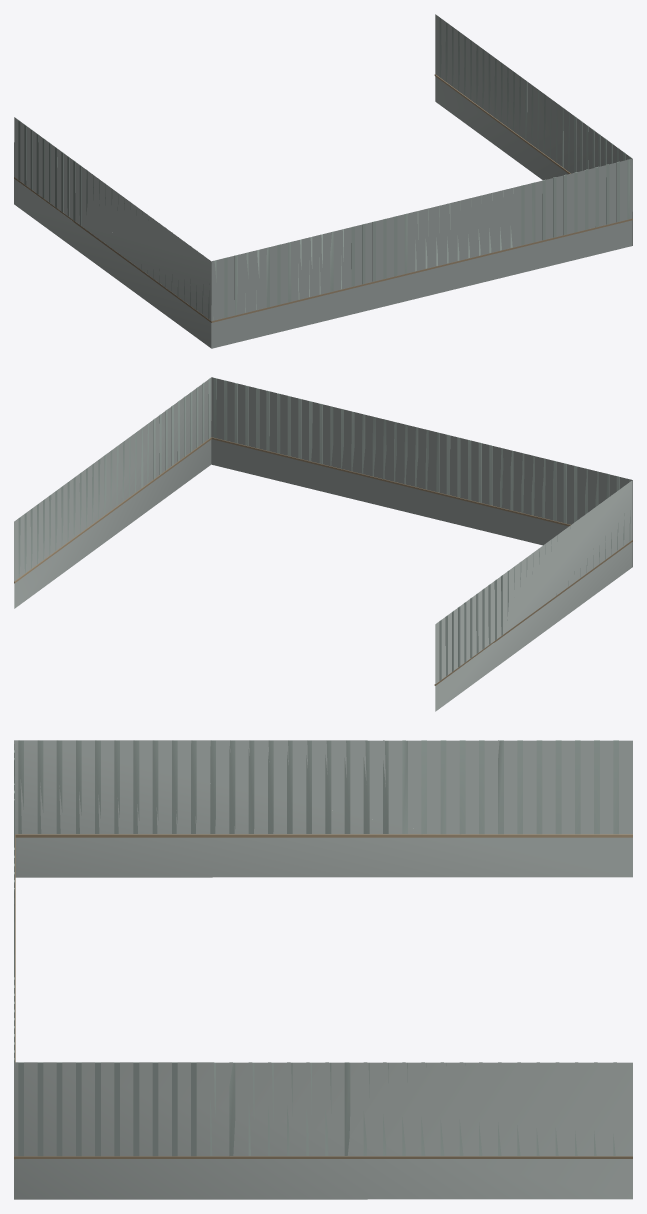
Rendered from home_wallpaper_s3__mint_low.glb.
3 views of the same model, one above another, from view 1: azimuth 30°, elevation 25°; view 2: azimuth 150°, elevation 25°; view 3: azimuth 270°, elevation 25° (orthographic). The views are drawn at different scales.
Size of the model in its own units: 15.9 by 3.15 by 12.9.
